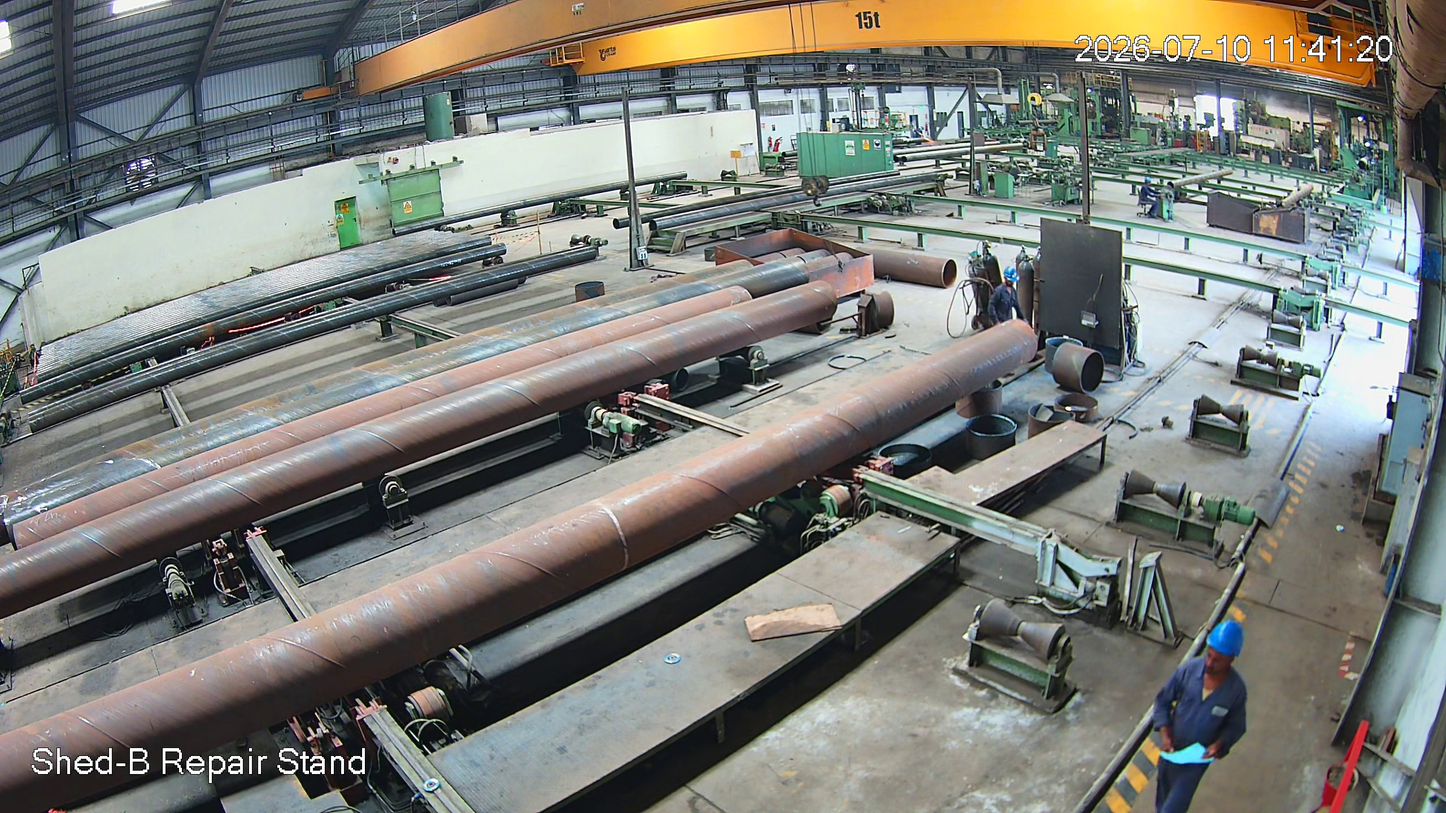Helmet: (1180, 599, 1253, 712), (1000, 264, 1023, 294), (1140, 172, 1157, 194)
Person: (1147, 609, 1260, 813), (983, 267, 1032, 330), (1134, 175, 1164, 220)
